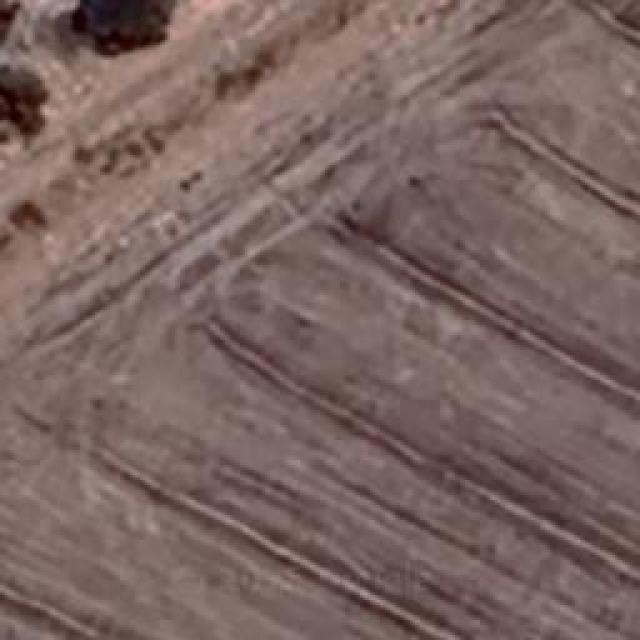PalmTree: (25, 21, 118, 100)
